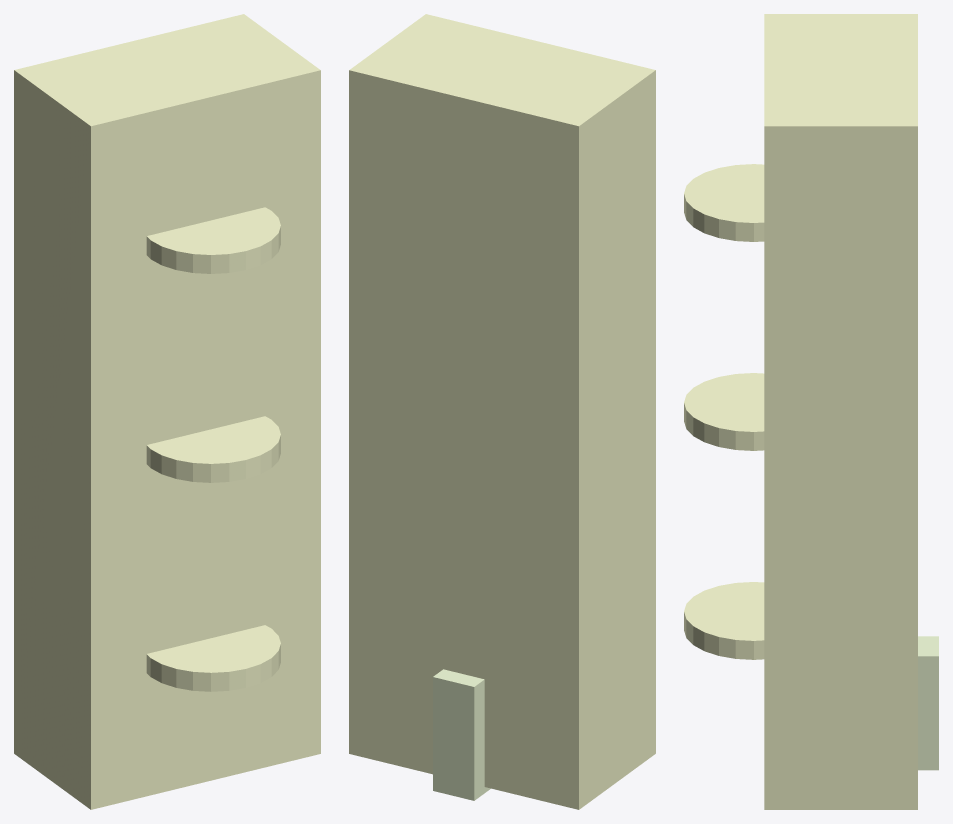
Rendered from signal_directional_arrow_uturn_3_aspect.glb.
The picture shows the model from 3 angles, left to right: view 1: azimuth 30°, elevation 25°; view 2: azimuth 150°, elevation 25°; view 3: azimuth 270°, elevation 25°; orthographic projection.
Visible parts, largest first — view 1: housing, lens_arrow_yellow, lens_arrow_red, lens_arrow_green; view 2: housing, bracket; view 3: housing, lens_arrow_yellow, lens_arrow_red, lens_arrow_green, bracket.
Part boxes in pixels (<box>): housing: <box>14,14,320,809</box>; lens_arrow_yellow: <box>146,416,280,482</box>; lens_arrow_red: <box>146,207,280,273</box>; lens_arrow_green: <box>146,625,280,691</box>; housing: <box>349,14,655,809</box>; bracket: <box>433,669,490,800</box>; housing: <box>764,14,917,809</box>; lens_arrow_yellow: <box>684,373,764,450</box>; lens_arrow_red: <box>684,164,764,241</box>; lens_arrow_green: <box>684,582,764,659</box>; bracket: <box>918,636,938,770</box>.
Size of the model in its own units: 0.38 by 1.09 by 0.365.
